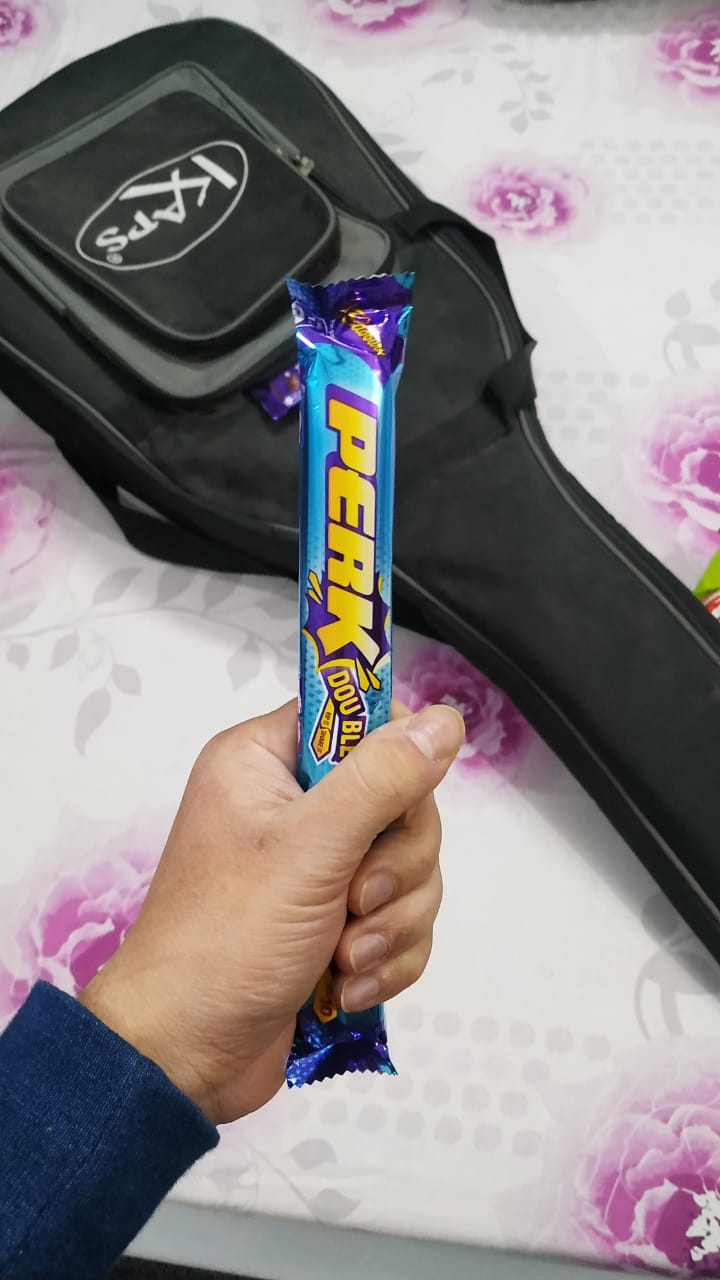perk: (262, 261, 425, 1082)
